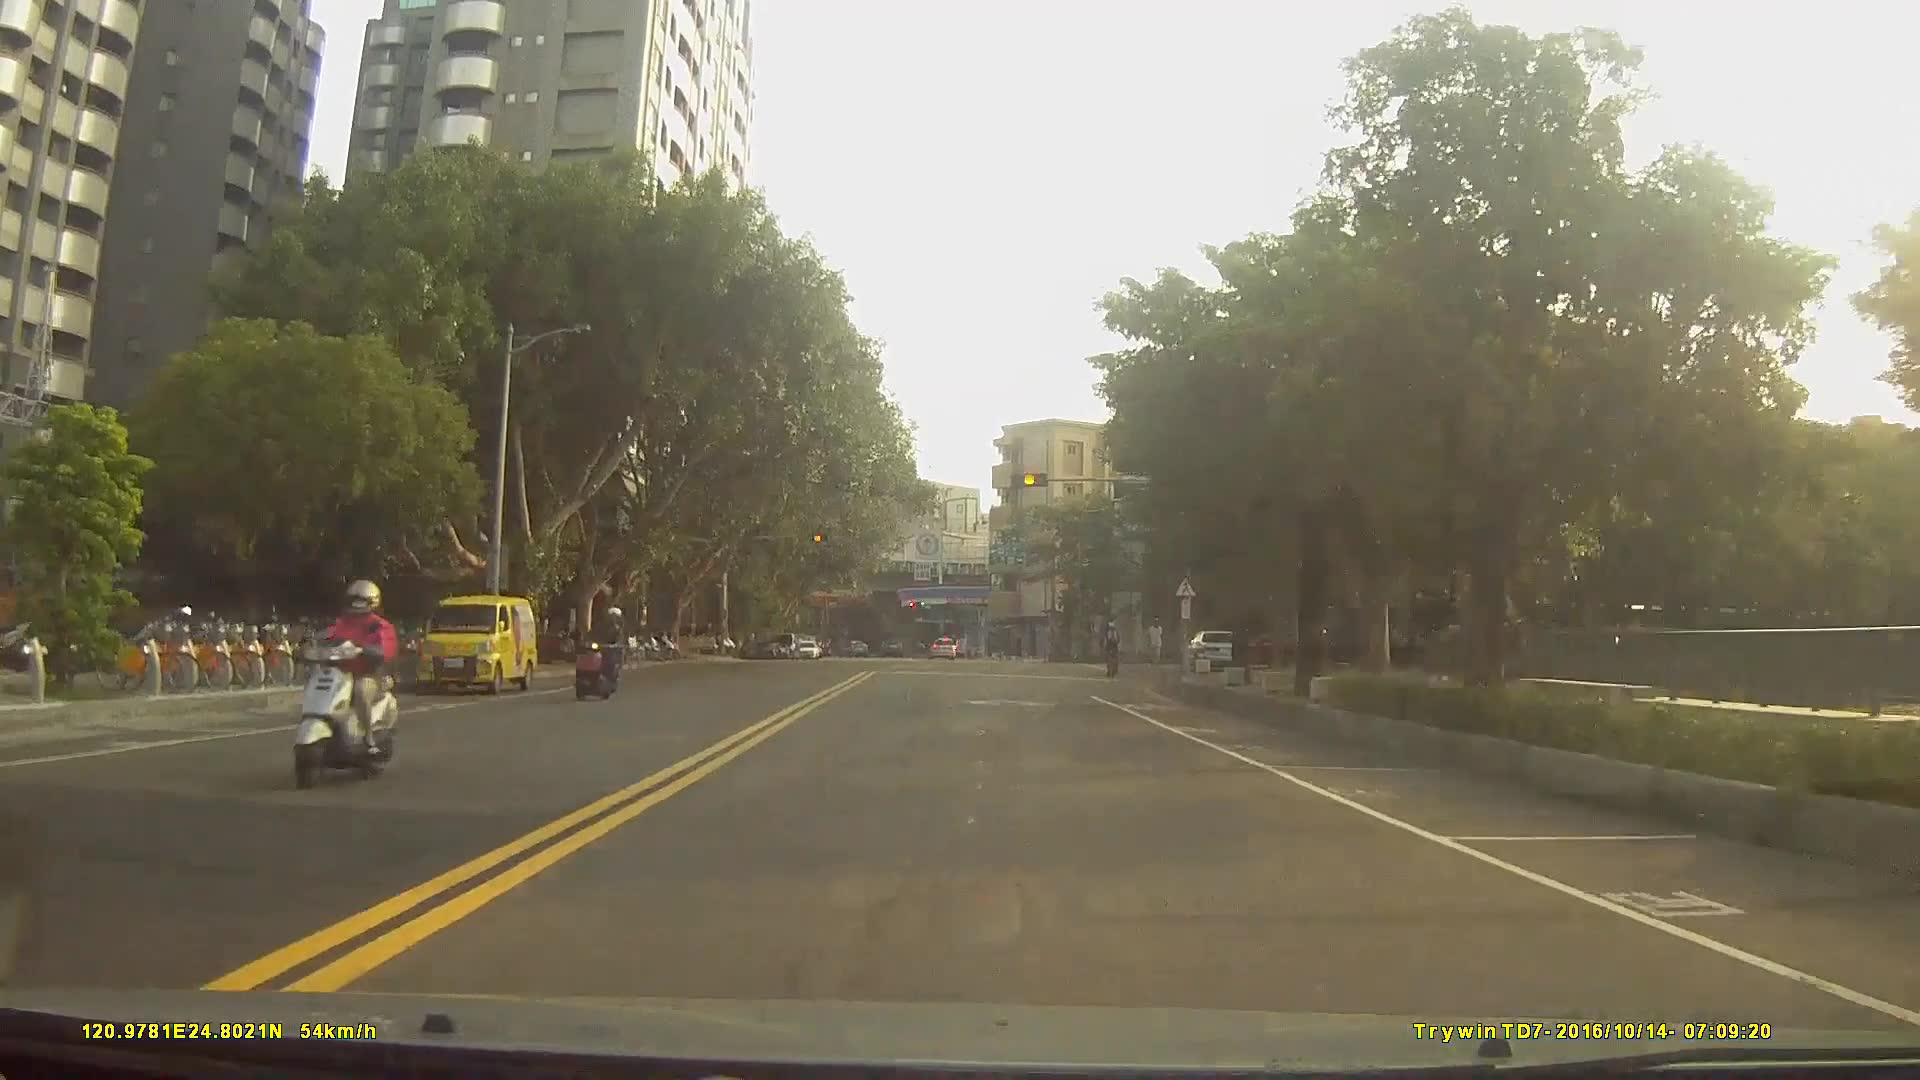pedestrian: (1146, 616, 1166, 671)
rider: (289, 579, 407, 786), (573, 605, 629, 703), (1103, 619, 1124, 679)
vehicle: (1179, 628, 1242, 669), (931, 637, 956, 660)
